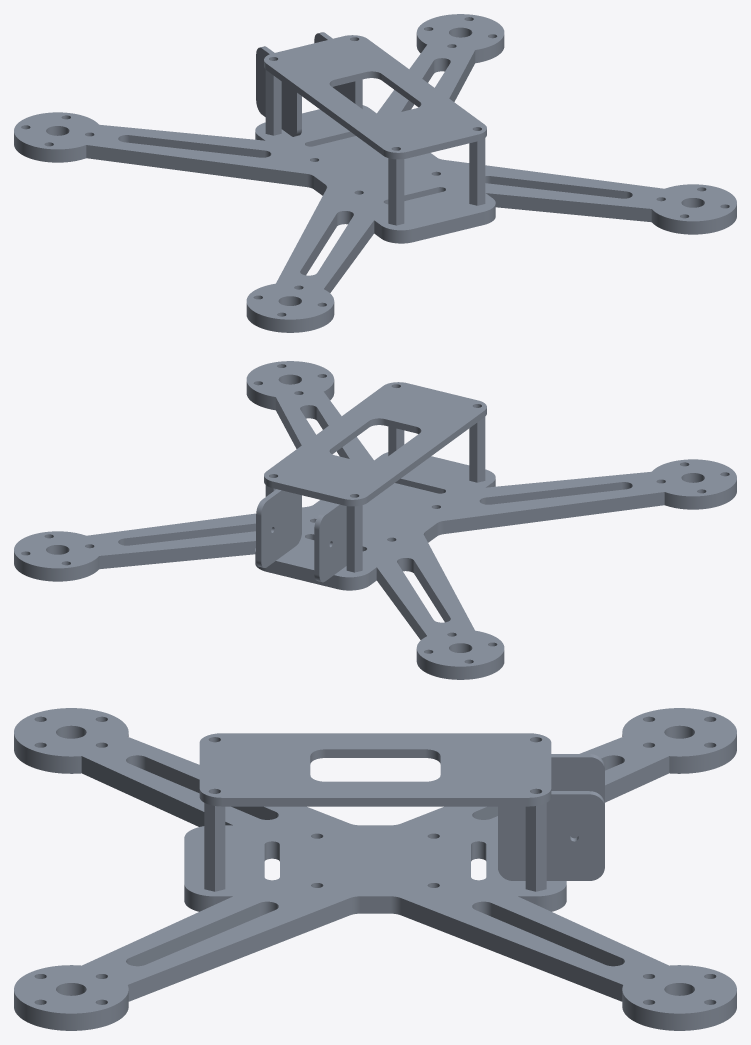
The model's file is step-6.glb.
3 renders of one model, top to bottom at view 1: azimuth 30°, elevation 25°; view 2: azimuth 150°, elevation 25°; view 3: azimuth 270°, elevation 25°, orthographic. The views are drawn at different scales.
Parts seen in each view (by area): view 1: face_3462520fd5905184c287, face_2dc81ff9661facc9e8aa, face_1eca755a6b4b61118afb, face_26f04b5ba8c4c64ad49c, face_70d6066b04f240932b9e, face_4f3c9539508e3cad428e, face_9bbac5e47ae6c59cab32, face_1652ee47c2ff05429bd9, face_9ae437875b5503ccbd1f, face_721785cbc0f2ac752816, face_30252e9dc4903821870c, face_992dee6a66a1ff1f4bf6 (+8 smaller); view 2: face_3462520fd5905184c287, face_2dc81ff9661facc9e8aa, face_c32ef5f191d23a5f25ee, face_1f5bcac642cbae3a510b, face_328ebcda5ebc6377554e, face_70d6066b04f240932b9e, face_721785cbc0f2ac752816, face_a346b2020efb87b89e30, face_0d98b20e4464964cb72a, face_b1caf8c0f2c565efb912, face_4f3c9539508e3cad428e, face_992dee6a66a1ff1f4bf6 (+7 smaller); view 3: face_3462520fd5905184c287, face_2dc81ff9661facc9e8aa, face_b6516b5439a562f0af18, face_104e0ba5e9348109e449, face_97546d7d8c22b6db1eca, face_ad58074464e4a1f33e2f, face_203e33fe93fe7c0330a2, face_9bbac5e47ae6c59cab32, face_a346b2020efb87b89e30, face_9266b99a3ad0735a899e, face_95f81838454b3e982345, face_c549f62dfaea31d1cc0a (+10 smaller).
Part boxes in pixels (box(x1,y1,x2,y2)): face_3462520fd5905184c287: box(14, 14, 736, 319); face_2dc81ff9661facc9e8aa: box(264, 35, 486, 152); face_1eca755a6b4b61118afb: box(86, 145, 307, 186); face_26f04b5ba8c4c64ad49c: box(486, 193, 651, 222); face_70d6066b04f240932b9e: box(256, 47, 296, 136); face_4f3c9539508e3cad428e: box(246, 302, 334, 332); face_9bbac5e47ae6c59cab32: box(651, 204, 736, 234); face_1652ee47c2ff05429bd9: box(490, 176, 626, 198); face_9ae437875b5503ccbd1f: box(129, 135, 264, 157); face_721785cbc0f2ac752816: box(14, 133, 86, 162); face_30252e9dc4903821870c: box(413, 212, 483, 242); face_992dee6a66a1ff1f4bf6: box(266, 64, 383, 155); face_3462520fd5905184c287: box(14, 361, 736, 666); face_2dc81ff9661facc9e8aa: box(264, 382, 486, 499); face_c32ef5f191d23a5f25ee: box(443, 492, 664, 533); face_1f5bcac642cbae3a510b: box(261, 490, 301, 567); face_328ebcda5ebc6377554e: box(99, 541, 255, 569); face_70d6066b04f240932b9e: box(319, 504, 346, 582); face_721785cbc0f2ac752816: box(416, 649, 504, 679); face_a346b2020efb87b89e30: box(14, 551, 99, 581); face_0d98b20e4464964cb72a: box(486, 482, 621, 504); face_b1caf8c0f2c565efb912: box(124, 523, 255, 545); face_4f3c9539508e3cad428e: box(664, 480, 736, 509); face_992dee6a66a1ff1f4bf6: box(367, 411, 484, 502); face_3462520fd5905184c287: box(14, 708, 736, 1013); face_2dc81ff9661facc9e8aa: box(199, 733, 551, 797); face_b6516b5439a562f0af18: box(498, 794, 604, 880); face_104e0ba5e9348109e449: box(128, 898, 349, 1001); face_97546d7d8c22b6db1eca: box(401, 898, 622, 1001); face_ad58074464e4a1f33e2f: box(222, 798, 528, 806); face_203e33fe93fe7c0330a2: box(81, 756, 232, 826); face_9bbac5e47ae6c59cab32: box(14, 991, 128, 1030); face_a346b2020efb87b89e30: box(622, 991, 736, 1030); face_9266b99a3ad0735a899e: box(551, 757, 604, 838); face_95f81838454b3e982345: box(129, 903, 259, 966); face_c549f62dfaea31d1cc0a: box(491, 903, 621, 966).
Size of the model in its own units: 0.1891 by 0.0325 by 0.1891.
